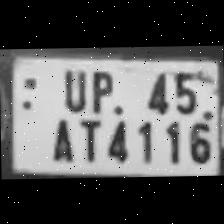1: (129, 113, 158, 164), (156, 115, 184, 165)
4: (100, 113, 131, 164), (138, 66, 169, 114)
5: (168, 66, 200, 114)
6: (183, 114, 212, 167)
A: (45, 113, 76, 163)
P: (83, 65, 116, 112)
T: (73, 115, 102, 162)
U: (56, 64, 87, 112)
